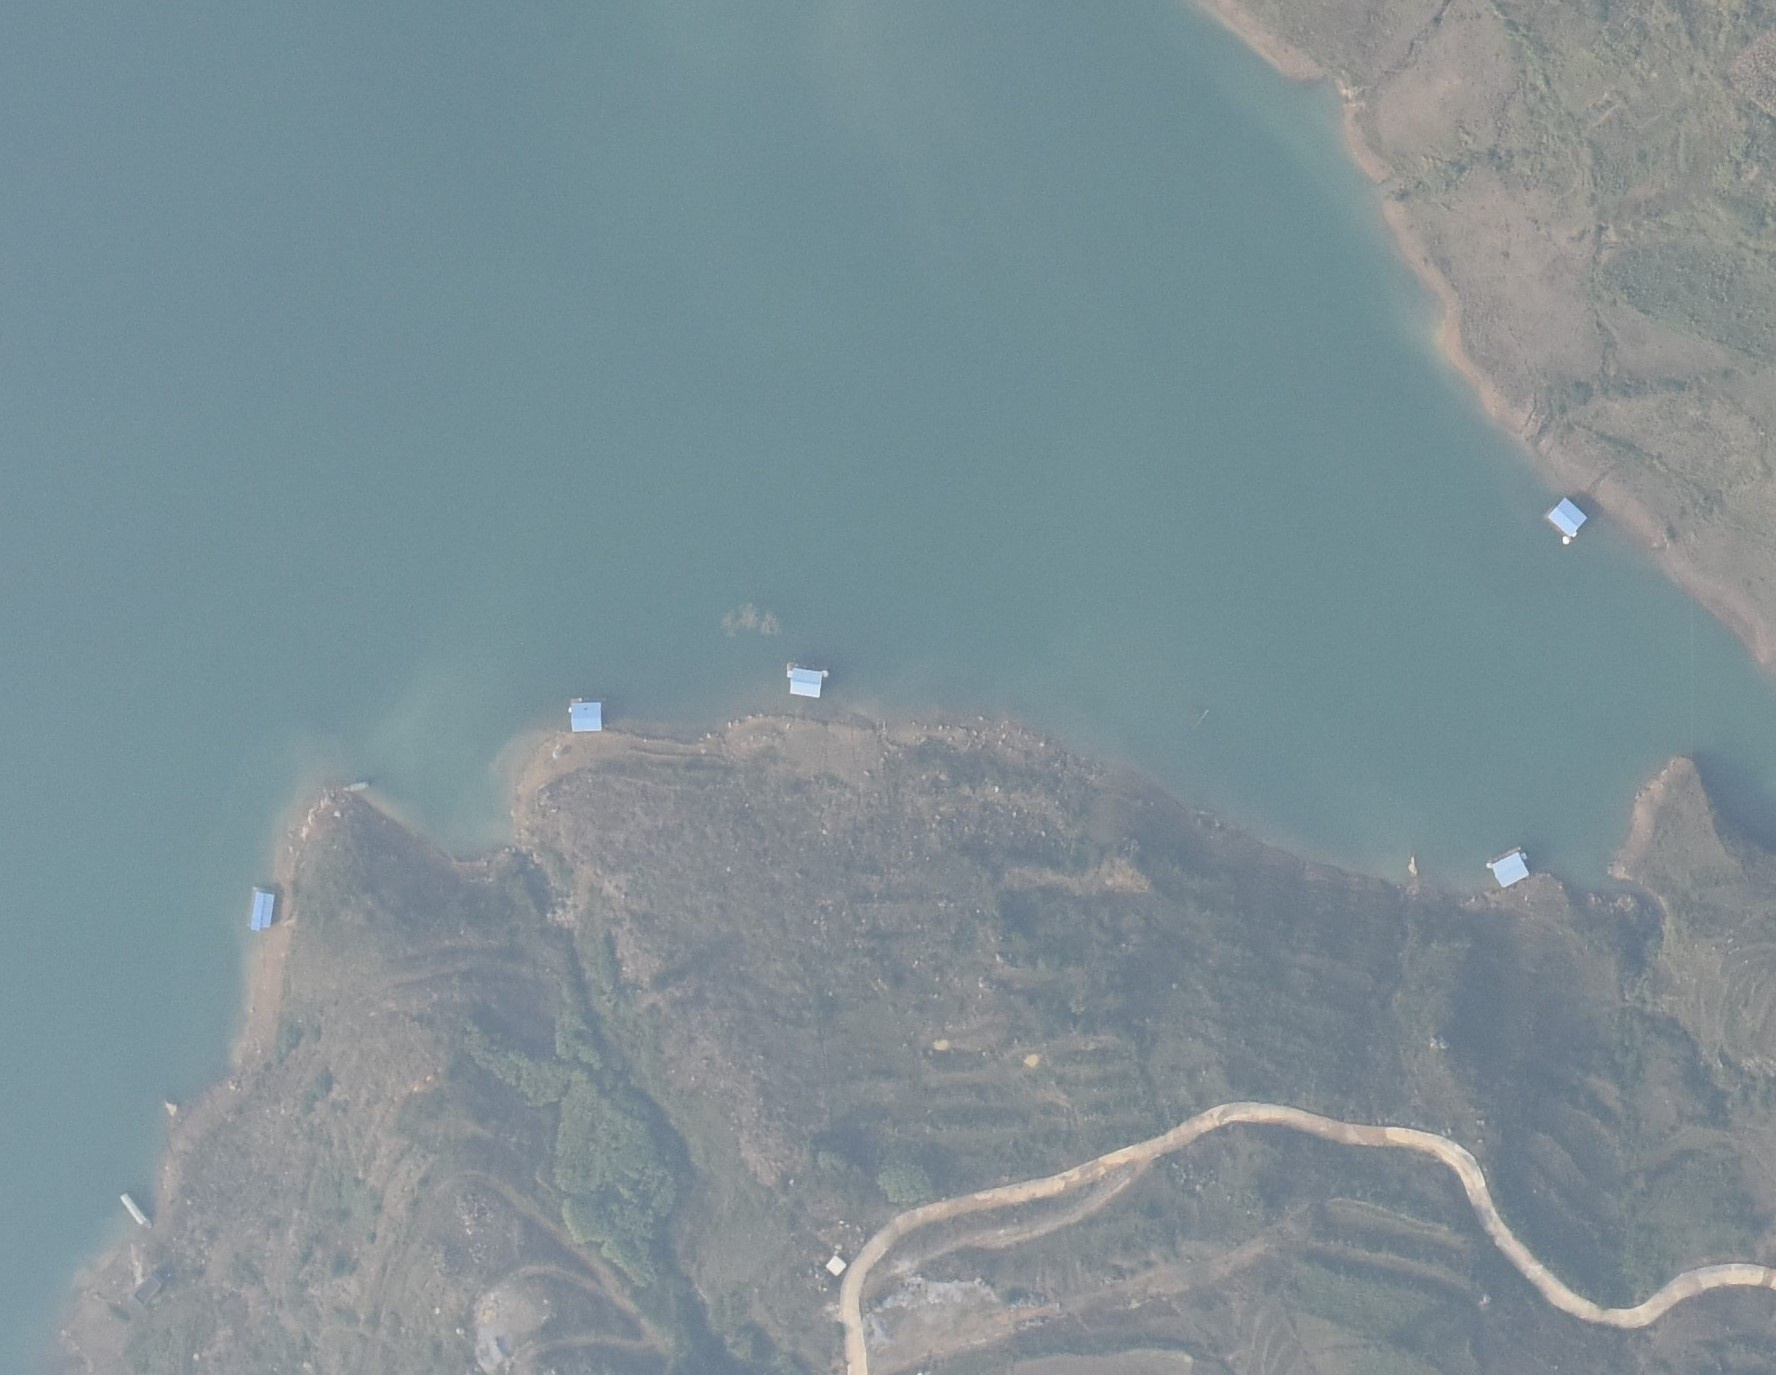prefabricated-house: (1539, 495, 1590, 542), (1487, 852, 1541, 890), (787, 663, 828, 701), (248, 884, 277, 934), (566, 699, 606, 735)
